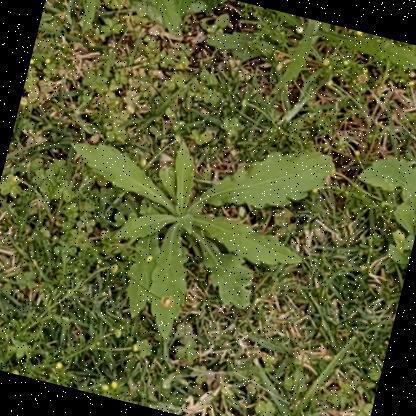Weeds: (29, 92, 337, 370), (340, 149, 415, 265)
